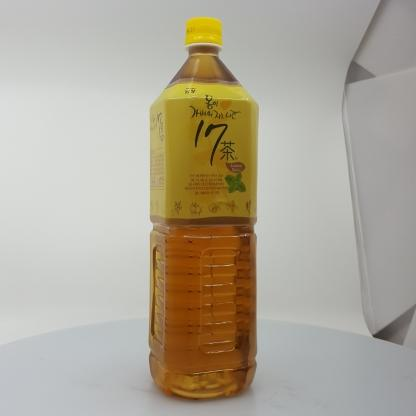--17----1-5L: (148, 17, 259, 400)
